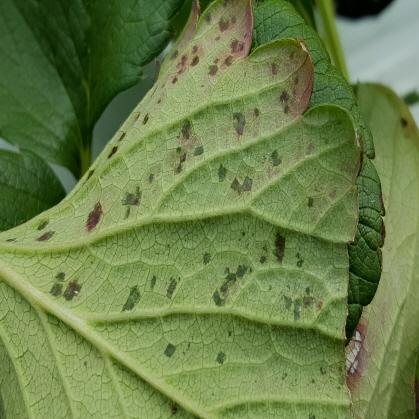Angular Leafspot: (1, 0, 365, 418), (344, 297, 389, 418)
